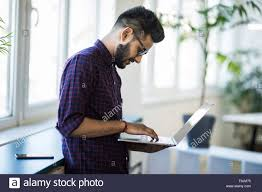Indian_Male: (99, 6, 159, 70)
